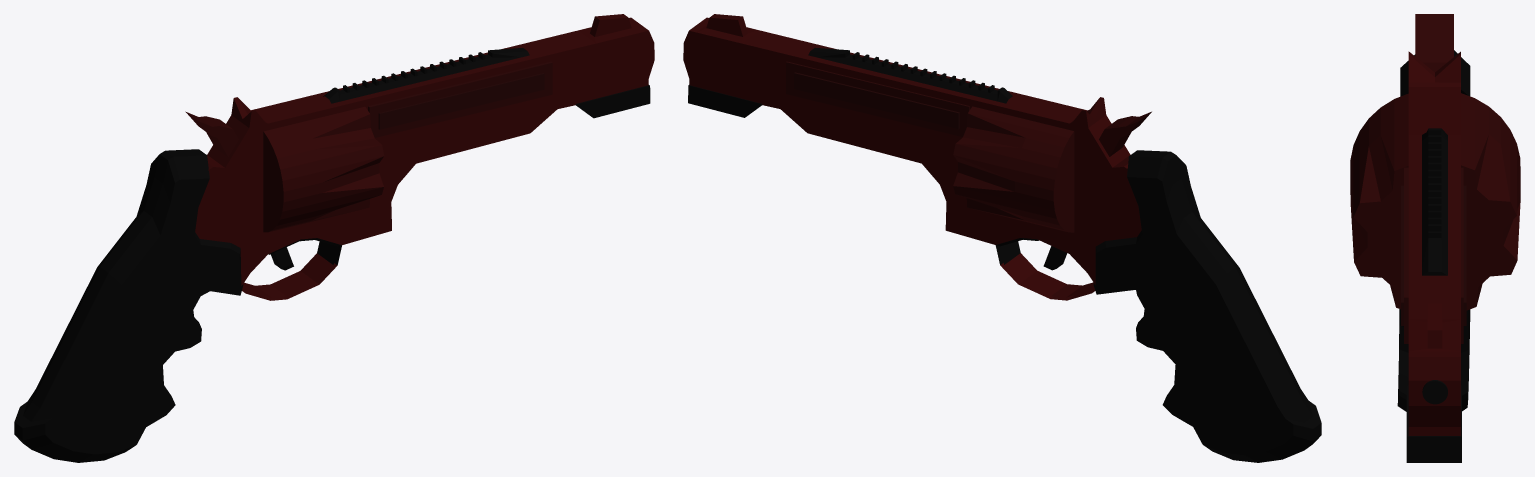
The model's file is revolver FINAL.obj.
3 renders of one model, left to right at view 1: azimuth 30°, elevation 25°; view 2: azimuth 150°, elevation 25°; view 3: azimuth 270°, elevation 25°, orthographic. The views are drawn at different scales.
Visible parts, largest first — view 1: Barrel_Cube.002_Cube.004, Handle_Cube, Cylinder, Cube.001_Cube.002, Cube.002_Cube.003, Cube.003_Cube.004, Cube_Cube.001; view 2: Barrel_Cube.002_Cube.004, Handle_Cube, Cylinder, Cube.001_Cube.002, Cube.002_Cube.003, Cube.003_Cube.004, Cube_Cube.001; view 3: Barrel_Cube.002_Cube.004, Cylinder, Handle_Cube, Cube_Cube.001, Cube.003_Cube.004, Cube.001_Cube.002, Cube.002_Cube.003, Cylinder.001.
Part boxes in pixels (x1=…): Barrel_Cube.002_Cube.004: x1=195, y1=14, x2=654, y2=300; Handle_Cube: x1=14, y1=149, x2=243, y2=462; Cylinder: x1=263, y1=106, x2=384, y2=232; Cube.001_Cube.002: x1=368, y1=61, x2=552, y2=137; Cube.002_Cube.003: x1=378, y1=73, x2=544, y2=129; Cube.003_Cube.004: x1=575, y1=85, x2=650, y2=118; Cube_Cube.001: x1=185, y1=111, x2=238, y2=156; Barrel_Cube.002_Cube.004: x1=683, y1=14, x2=1141, y2=300; Handle_Cube: x1=1093, y1=150, x2=1321, y2=462; Cylinder: x1=953, y1=106, x2=1074, y2=232; Cube.001_Cube.002: x1=786, y1=61, x2=969, y2=136; Cube.002_Cube.003: x1=794, y1=72, x2=959, y2=129; Cube.003_Cube.004: x1=688, y1=85, x2=762, y2=117; Cube_Cube.001: x1=1099, y1=111, x2=1151, y2=156; Barrel_Cube.002_Cube.004: x1=1408, y1=51, x2=1460, y2=435; Cylinder: x1=1350, y1=93, x2=1520, y2=310; Handle_Cube: x1=1397, y1=50, x2=1470, y2=411; Cube_Cube.001: x1=1415, y1=14, x2=1453, y2=72; Cube.003_Cube.004: x1=1406, y1=385, x2=1461, y2=462; Cube.001_Cube.002: x1=1404, y1=167, x2=1463, y2=343; Cube.002_Cube.003: x1=1401, y1=185, x2=1466, y2=325; Cylinder.001: x1=1422, y1=380, x2=1447, y2=404.
Bounding box in the file's own units: 4.93 × 2.39 × 0.797.
